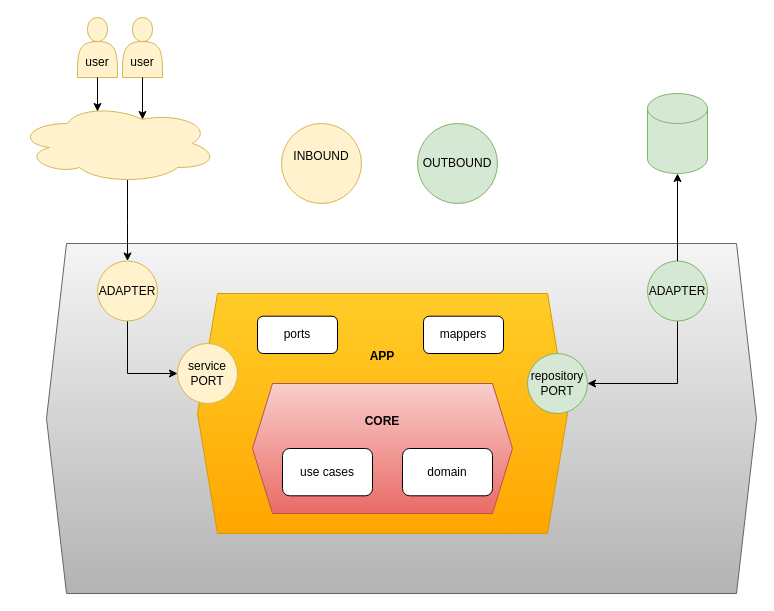
This 774x611 diagram has some shape labels left out. Each missing label, with the centre of its shape:
"postgresql" belongs at (x=677, y=133).
"REST API" belongs at (x=117, y=143).
